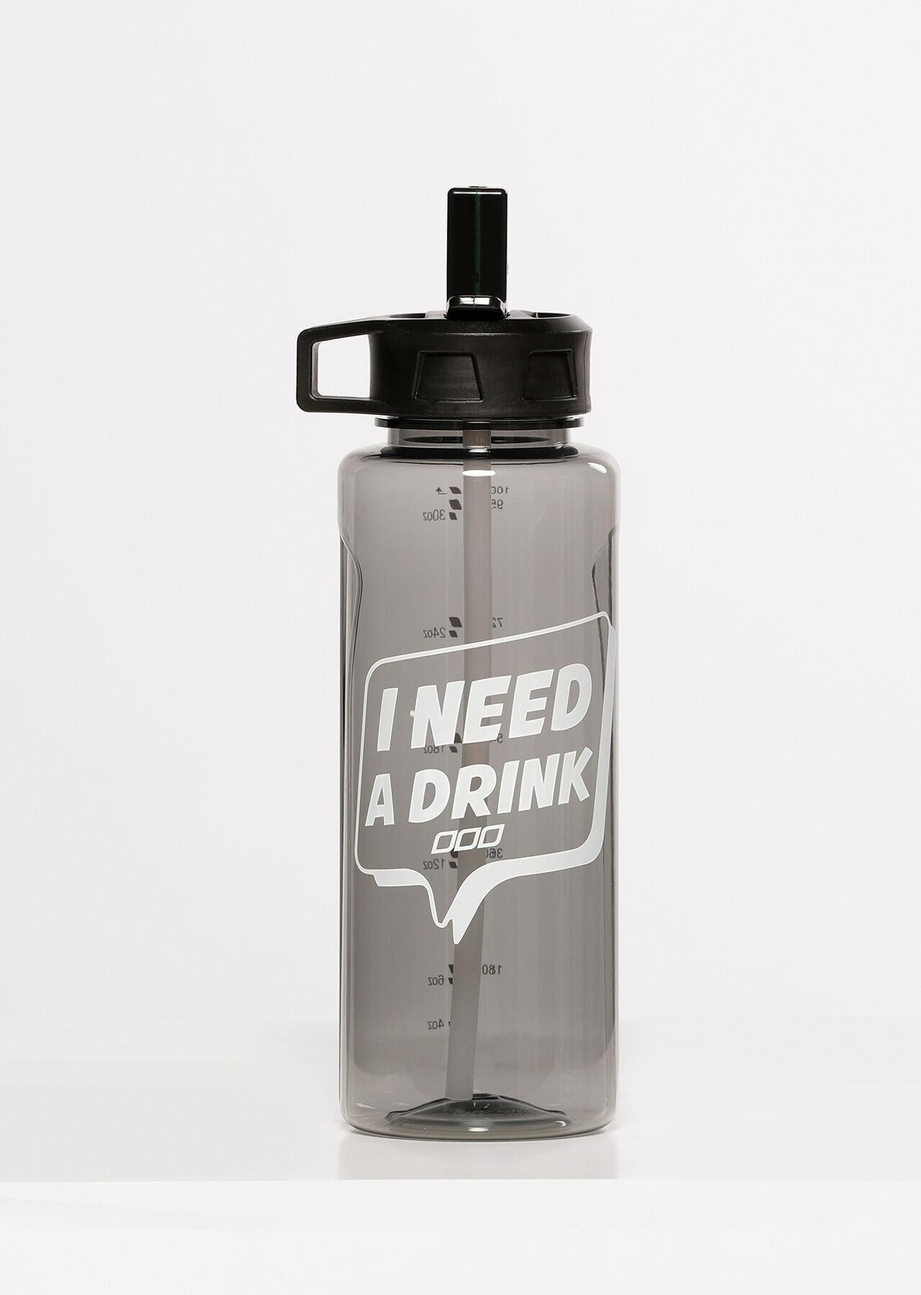gym bottle: (296, 180, 627, 1146)
